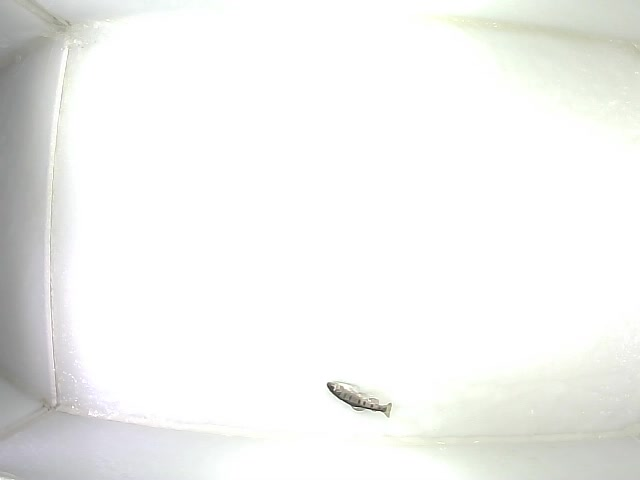fish: (326, 381, 393, 419)
